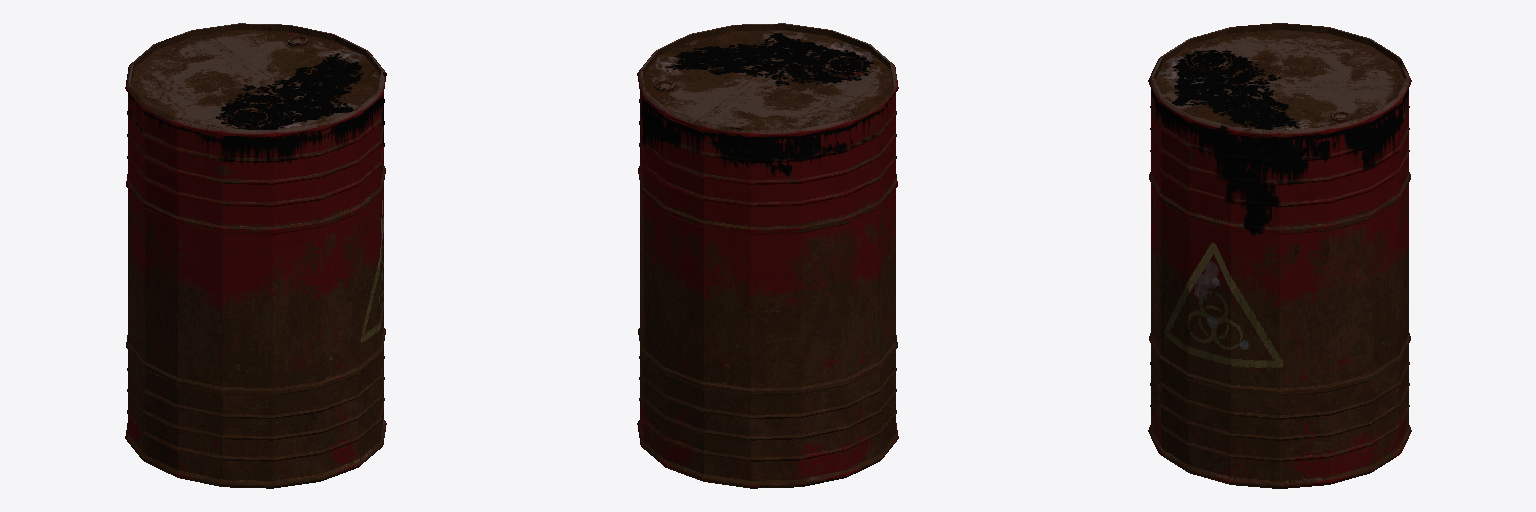
3 views of the same model, side by side, from view 1: azimuth 30°, elevation 25°; view 2: azimuth 150°, elevation 25°; view 3: azimuth 270°, elevation 25° (orthographic).
Visible parts, largest first — view 1: defaultMaterial.002; view 2: defaultMaterial.002; view 3: defaultMaterial.002.
Part boxes in pixels (left/top/right/bottom): defaultMaterial.002: left=125, top=23, right=386, bottom=488; defaultMaterial.002: left=637, top=23, right=898, bottom=488; defaultMaterial.002: left=1148, top=23, right=1411, bottom=488.
Size of the model in its own units: 0.6847 by 1.02 by 0.6847.
1 materials, 1 textured.